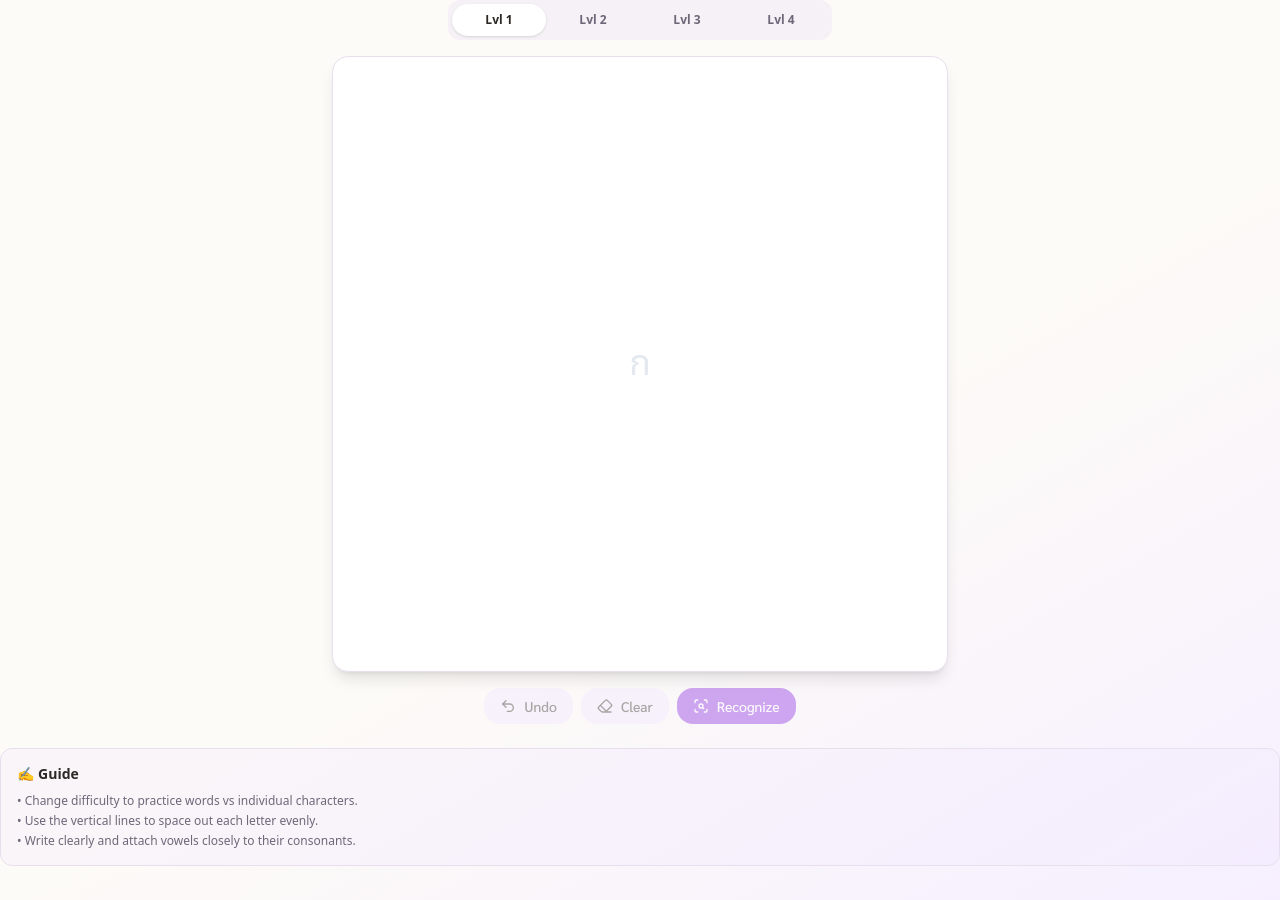
it: WritingPad responsive drawing › clears the bitmap and undo state on difficulty change and scales rectangular input
Press the mouse on the drawing at (640, 364), box [341,65,939,663]
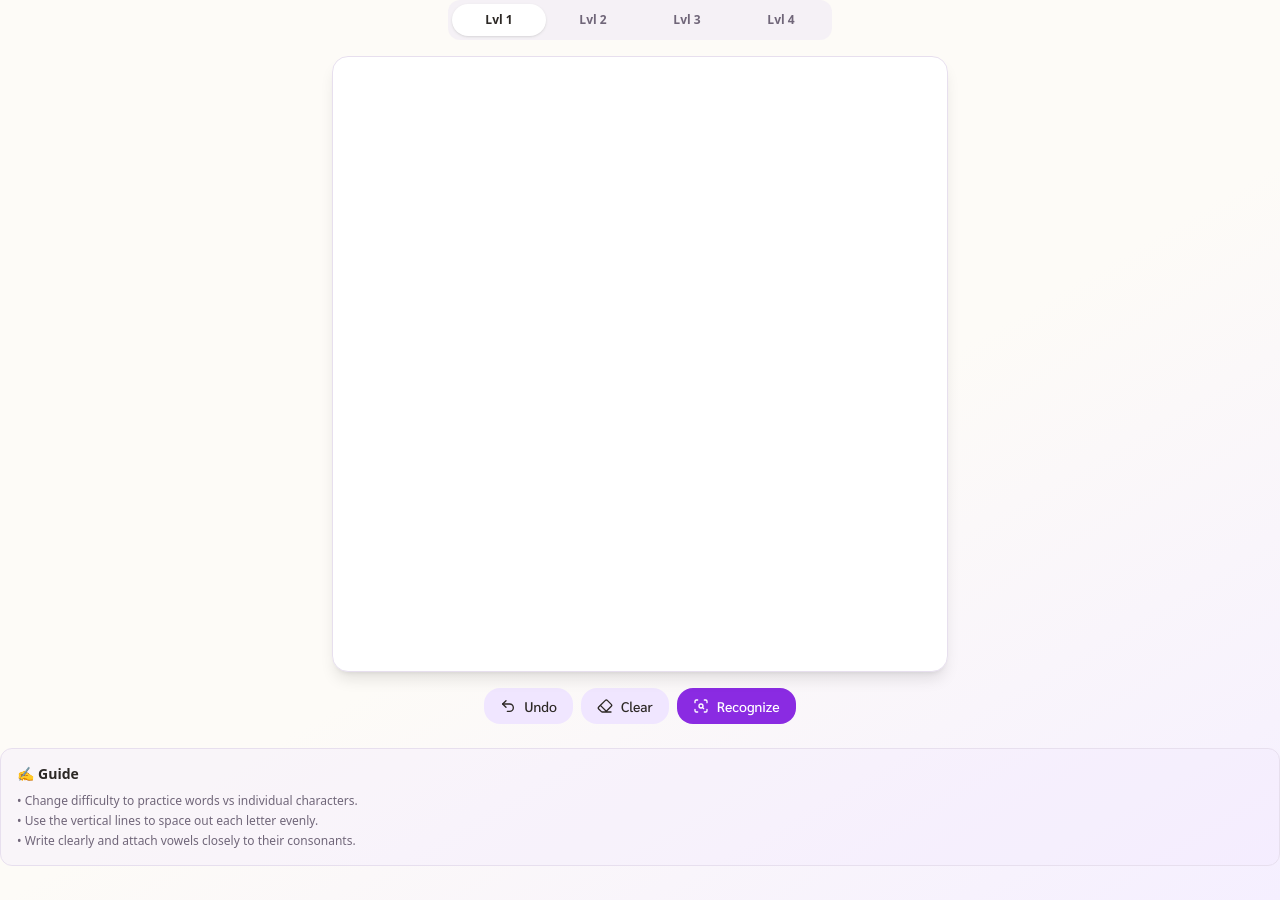
Click the radio button labelled "Lvl 2".
click(593, 20)  # box [546,4,640,36]
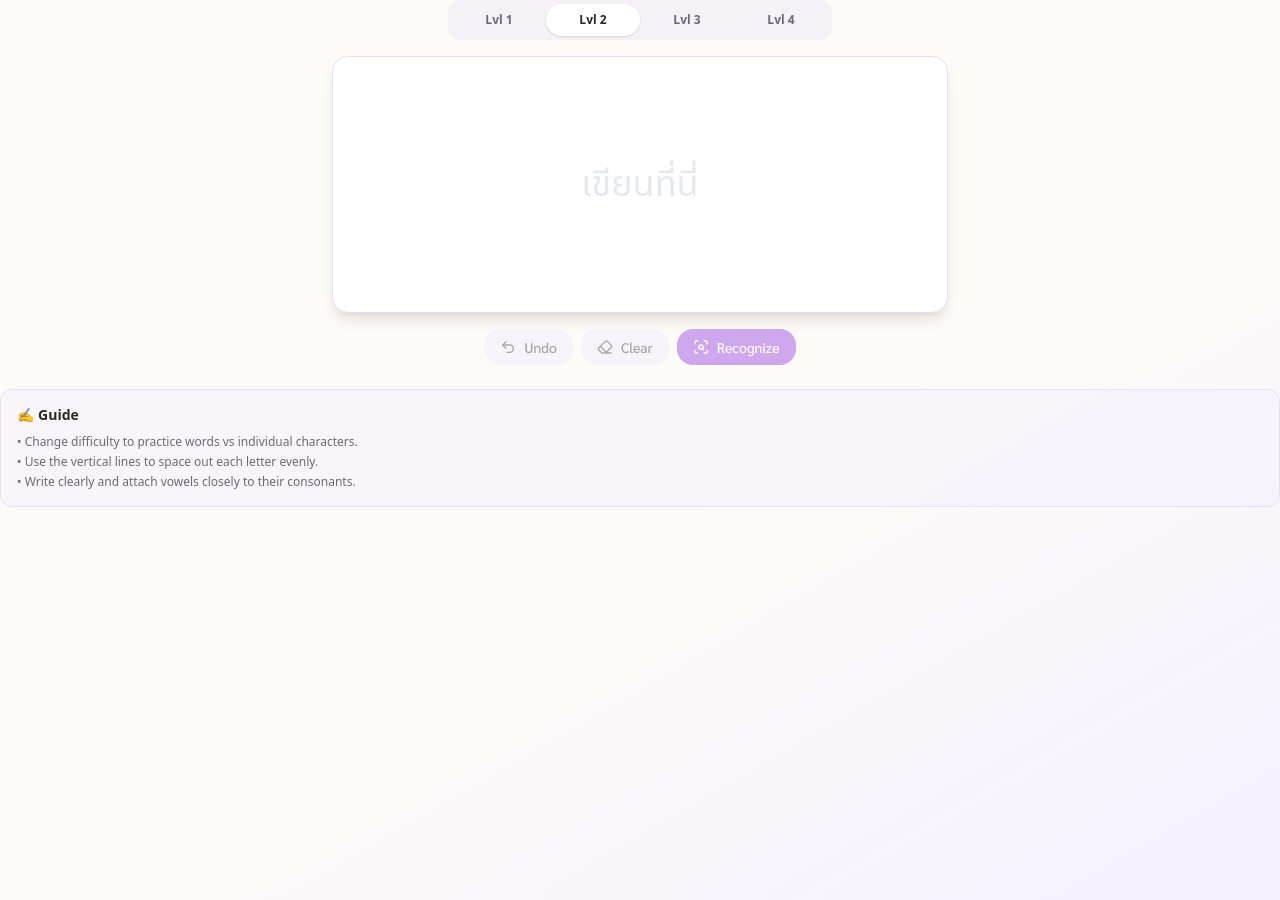
Expected: the button "Recognize" is disabled, [677,329,796,365]
Expected: the button "Undo" is disabled, [484,329,573,365]
Press the mouse on the drawing at (640, 185), box [341,65,939,304]
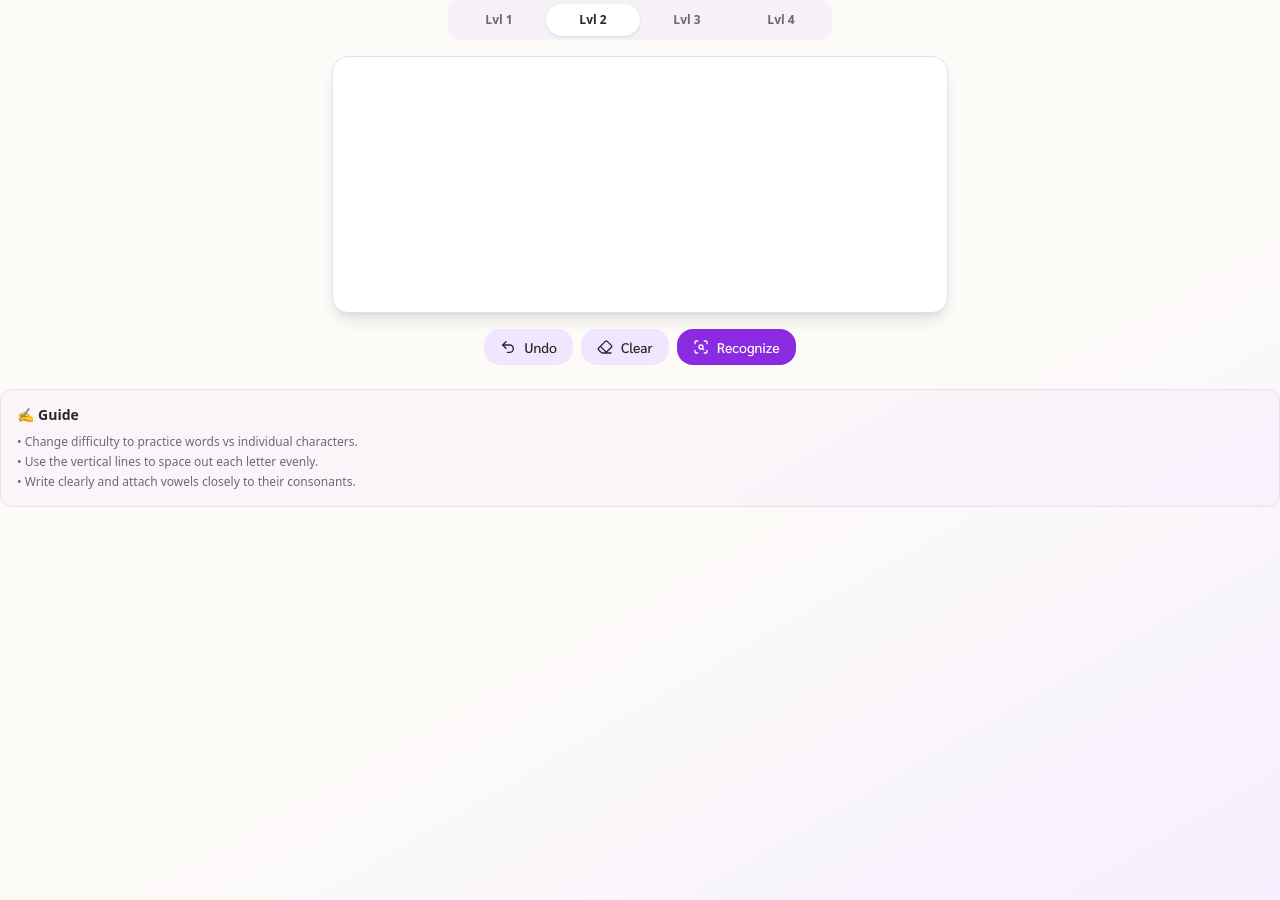
Click the button "Undo".
click(529, 347)  # box [484,329,573,365]
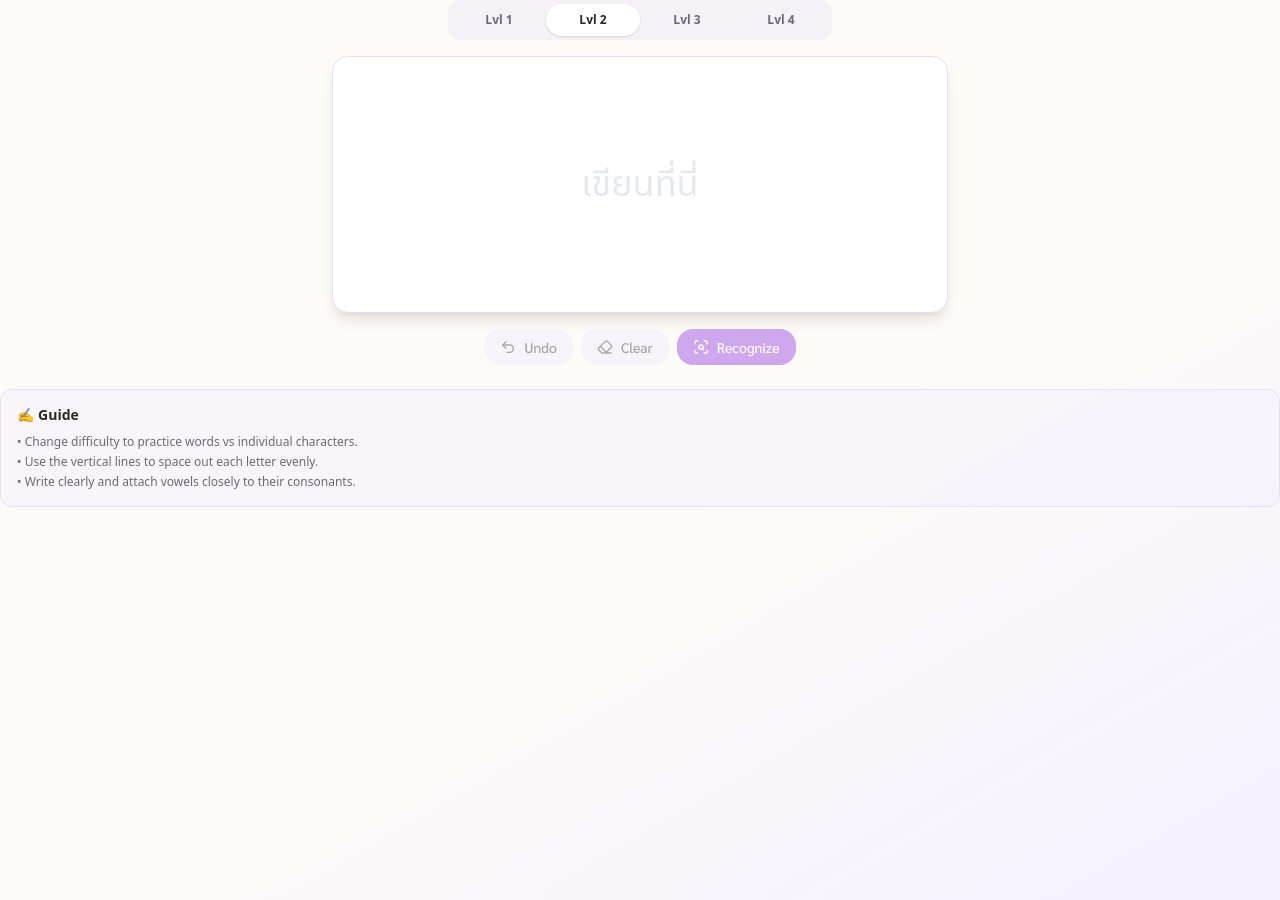
Expected: the button "Undo" is disabled, [484,329,573,365]
Expected: the button "Recognize" is disabled, [677,329,796,365]
